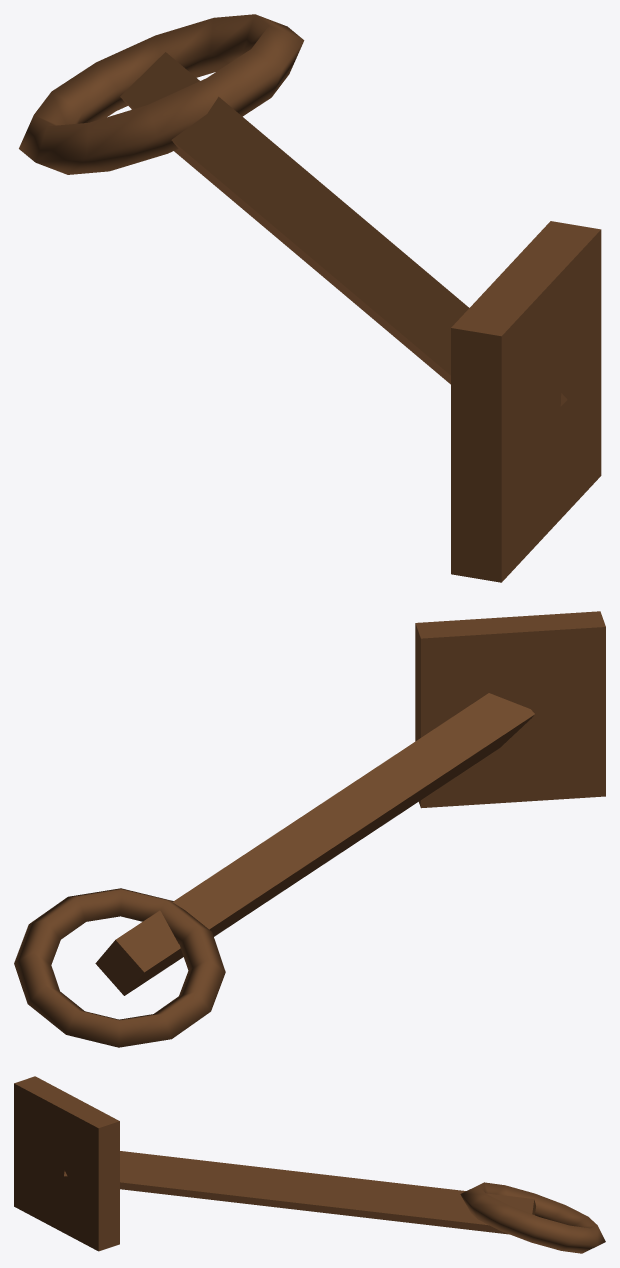
Rendered from Holder_Spear.fbx.
3 views of the same model, one above another, from view 1: azimuth 30°, elevation 25°; view 2: azimuth 150°, elevation 25°; view 3: azimuth 270°, elevation 25° (orthographic). The views are drawn at different scales.
Parts seen in each view (by area): view 1: Holder_Spear; view 2: Holder_Spear; view 3: Holder_Spear.
Part boxes in pixels (box(x1,y1,x2,y2)): Holder_Spear: box(19, 14, 601, 582); Holder_Spear: box(14, 611, 605, 1047); Holder_Spear: box(14, 1076, 605, 1253).
Bounding box in the file's own units: 0.043 × 0.0305 × 0.1306.
